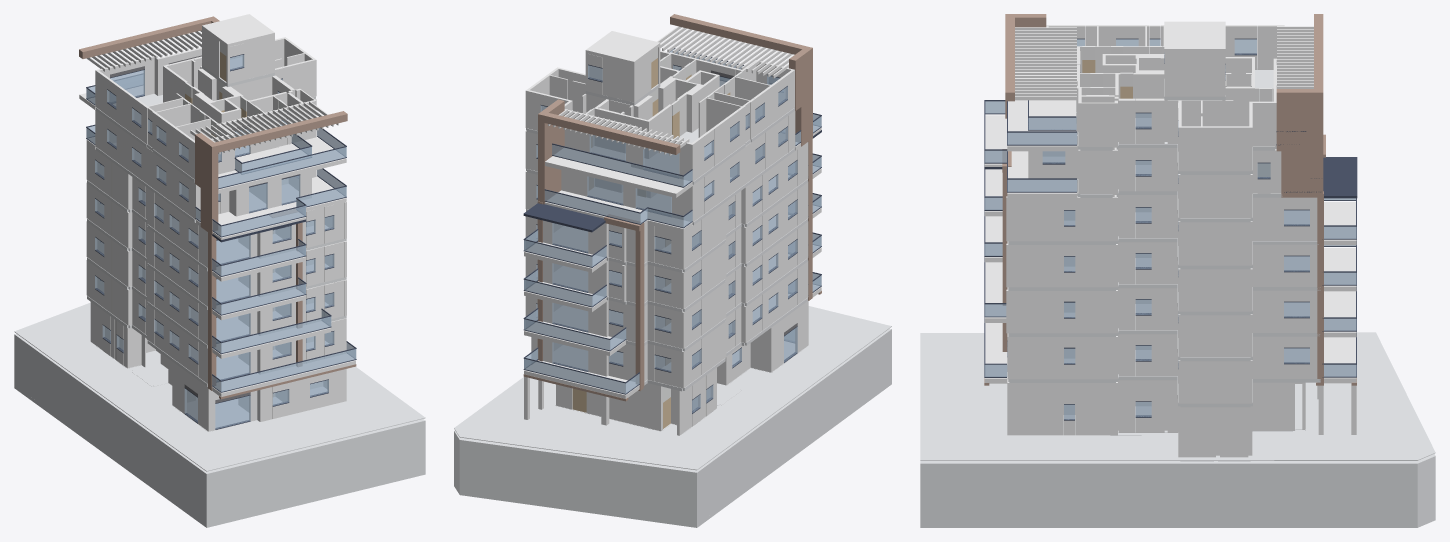
The model's file is yatkovski7_model.glb.
The picture shows the model from 3 angles, left to right: view 1: azimuth 30°, elevation 25°; view 2: azimuth 150°, elevation 25°; view 3: azimuth 270°, elevation 25°; orthographic projection. The views are drawn at different scales.
Parts seen in each view (by area): view 1: Yatkovski7_BIM; view 2: Yatkovski7_BIM; view 3: Yatkovski7_BIM.
Boxes of the visible parts, x1,y1,x2,y2 form: Yatkovski7_BIM: [14, 14, 425, 527]; Yatkovski7_BIM: [454, 14, 891, 527]; Yatkovski7_BIM: [920, 14, 1435, 527].
Bounding box in the file's own units: 18.79 × 30.89 × 31.99.
